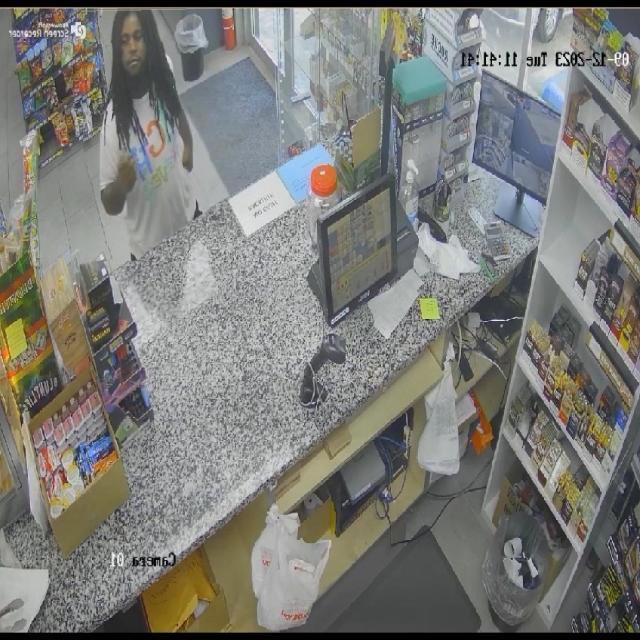normal: (81, 7, 209, 261)
